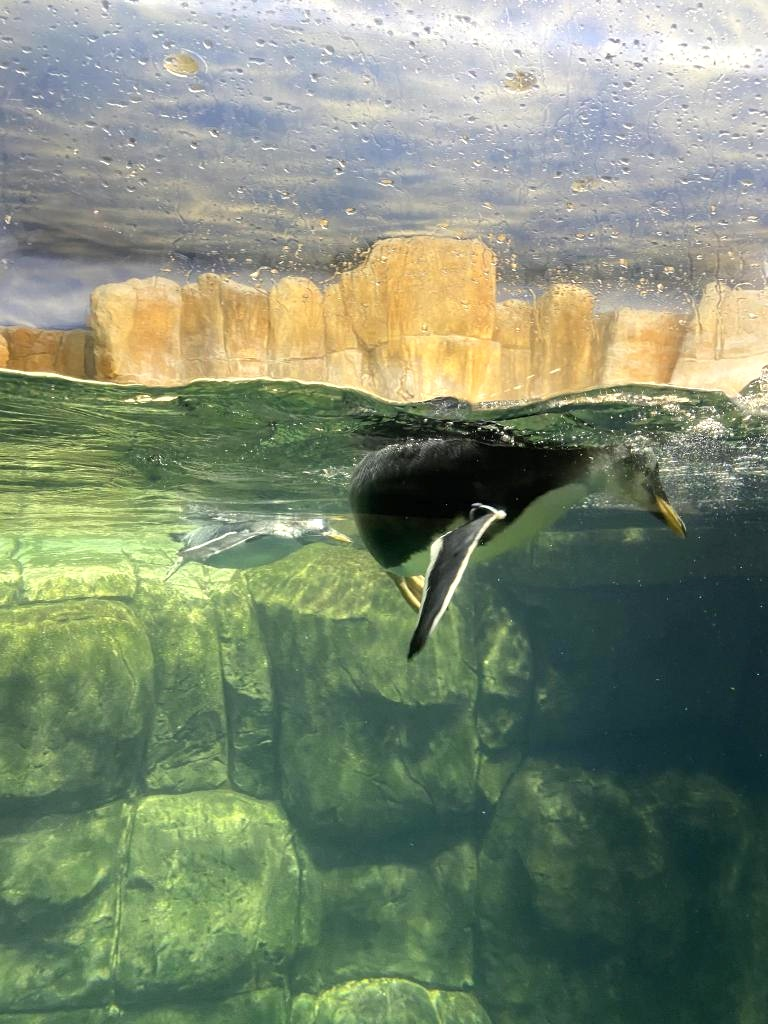penguin: (344, 406, 686, 602), (161, 509, 347, 573)
